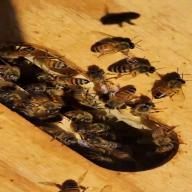Bee: (36, 57, 94, 88), (103, 51, 161, 80), (150, 69, 188, 102), (85, 35, 144, 56), (23, 96, 63, 120), (105, 85, 143, 108), (13, 42, 42, 58)
